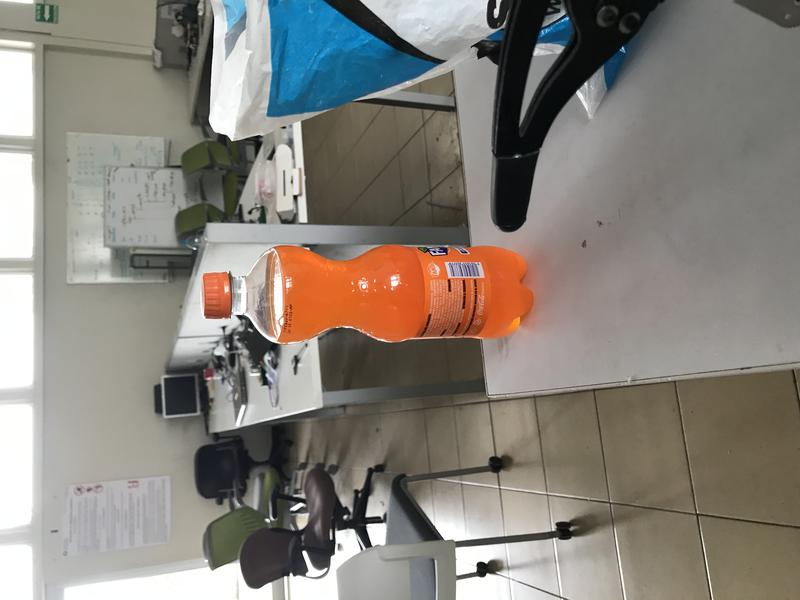fanta: (201, 244, 535, 345)
